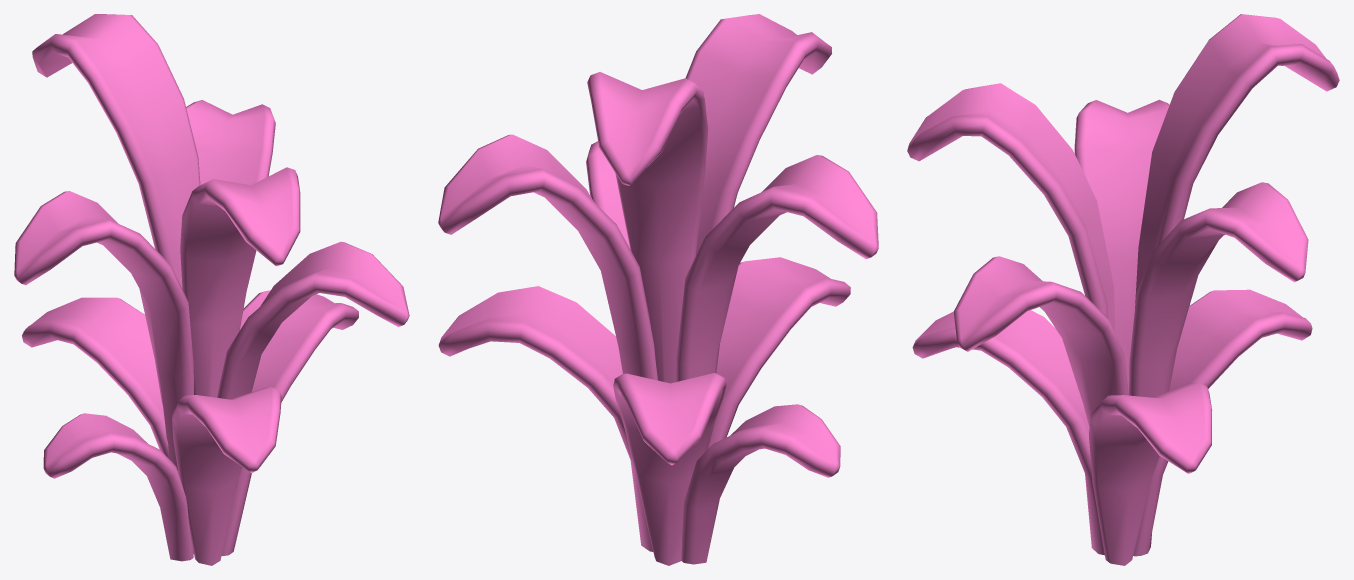
Rendered from vegetacion05.fbx.
The picture shows the model from 3 angles, left to right: view 1: azimuth 30°, elevation 25°; view 2: azimuth 150°, elevation 25°; view 3: azimuth 270°, elevation 25°; orthographic projection. The views are drawn at different scales.
Visible parts, largest first — view 1: Plant.047; view 2: Plant.047; view 3: Plant.047.
Part boxes in pixels (<box>): Plant.047: <box>14,14,409,565</box>; Plant.047: <box>438,14,878,565</box>; Plant.047: <box>907,14,1339,565</box>.
Size of the model in its own units: 846 by 1079 by 842.
1 material, 1 textured.
